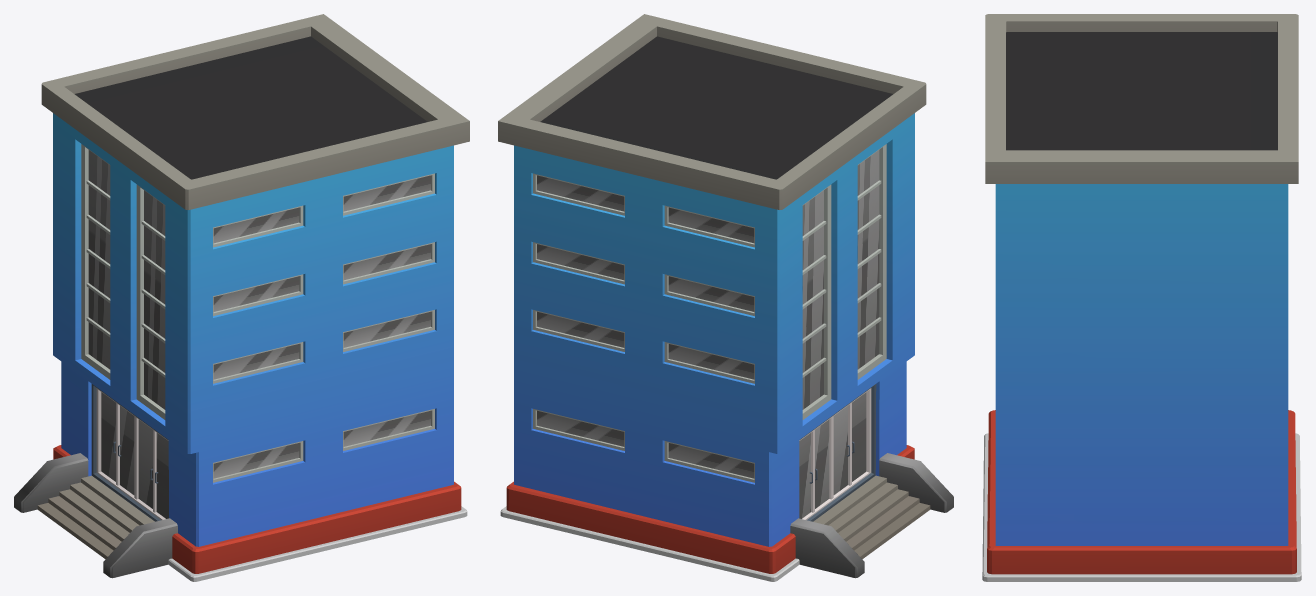
The model's file is Building_26_A.glb.
The picture shows the model from 3 angles, left to right: view 1: azimuth 30°, elevation 25°; view 2: azimuth 150°, elevation 25°; view 3: azimuth 270°, elevation 25°; orthographic projection. The views are drawn at different scales.
Parts seen in each view (by area): view 1: Building_26_A; view 2: Building_26_A; view 3: Building_26_A.
Boxes of the visible parts, box(x1,y1,x2,y2) form: Building_26_A: box(14, 14, 469, 581); Building_26_A: box(498, 14, 953, 581); Building_26_A: box(982, 14, 1301, 581).
Bounding box in the file's own units: 9.23 × 10.37 × 7.12.
3 materials, 3 textured.
